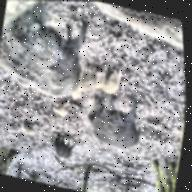boar: (73, 91, 162, 158)
